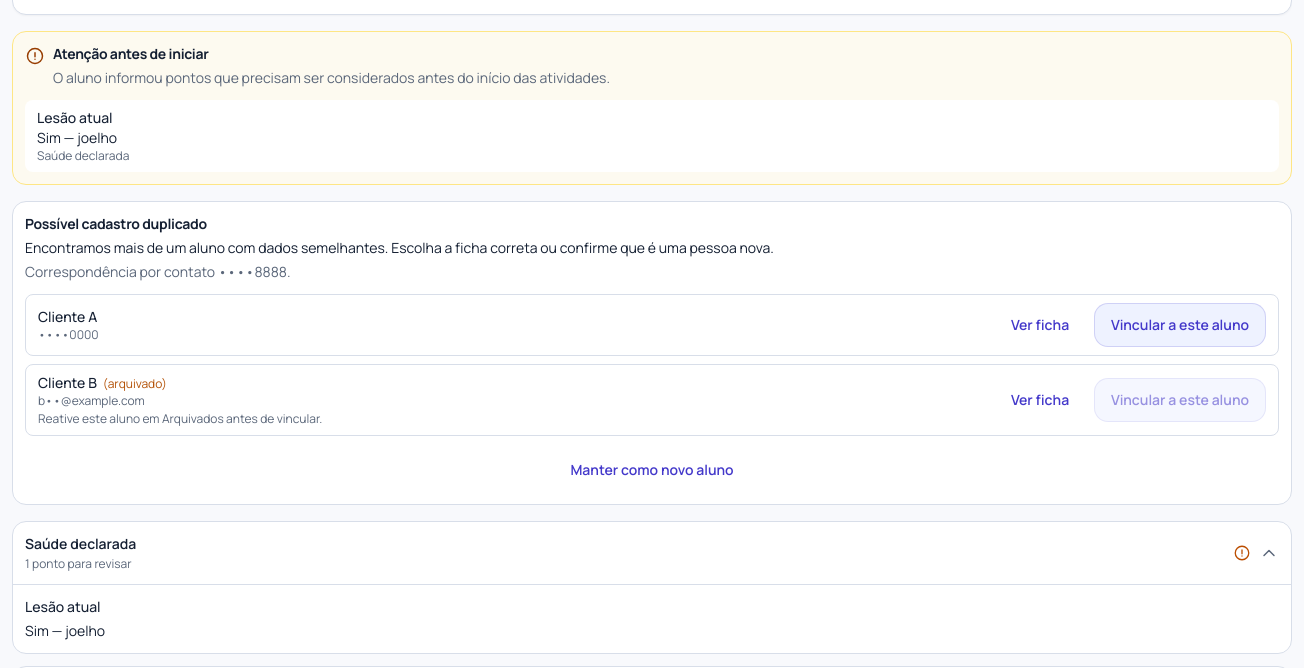
ambiguous duplicate resolution › links to the chosen candidate via POST link-to-client
The image size is (1304, 668).
(page scrolled)
Expected: the text "Cliente A" is shown, left=38, top=307, right=99, bottom=327
Click the button "Vincular a este aluno" in the row of "••••0000" at [1180, 325], box left=1094, top=303, right=1266, bottom=347
(page scrolled)
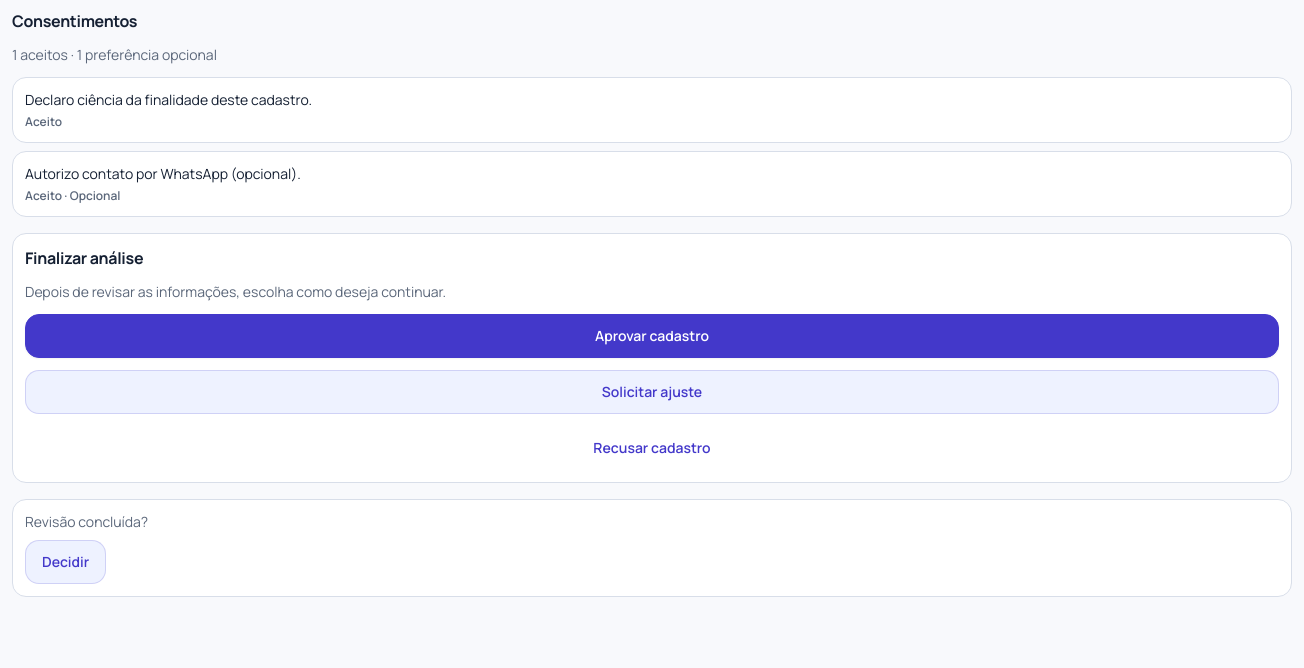
Now the button "Aprovar cadastro" is shown, box left=25, top=314, right=1279, bottom=358
